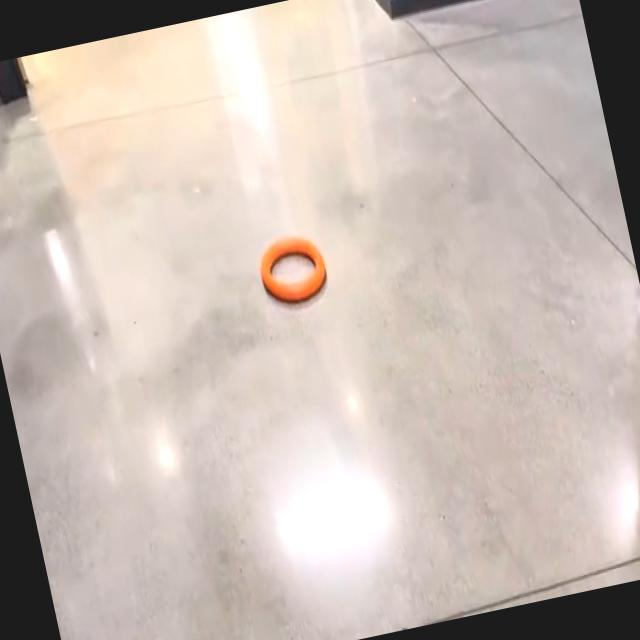note: (259, 238, 326, 302)
